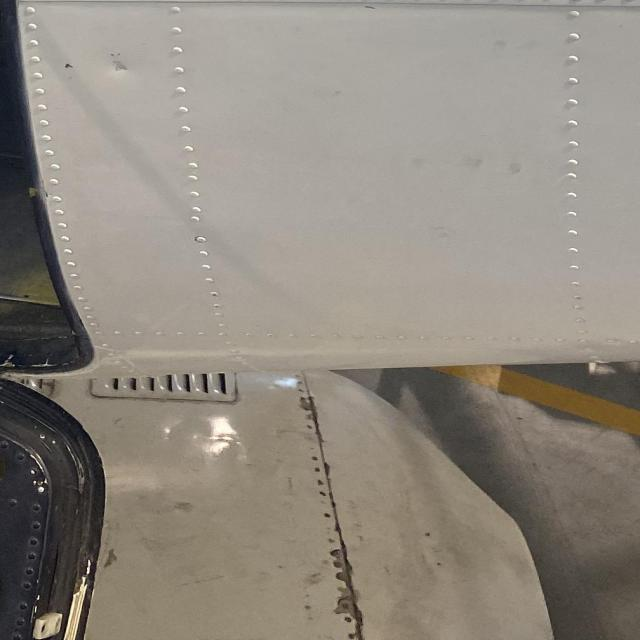Dent: (105, 55, 131, 78)
Paint-off: (361, 5, 380, 15)
